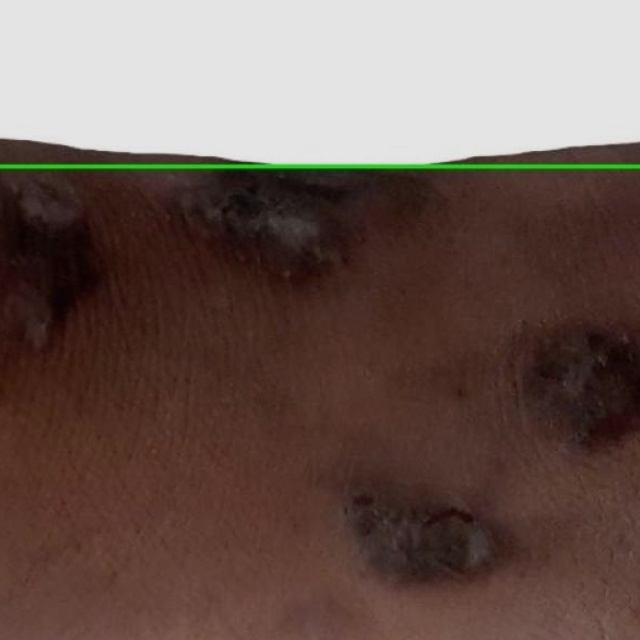Contact Dermatitis: (0, 0, 639, 166)
